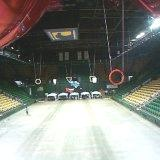Orange_Circle_GShape: (108, 69, 125, 85)
Yellow_Circle_GShape: (35, 79, 41, 85)
Yellow_Square_GShape: (88, 75, 96, 83)
Yellow_Triangle_Gshape: (66, 76, 73, 82)
